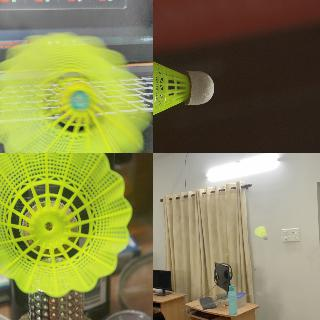shuttlecock: (0, 153, 132, 298), (0, 30, 151, 152), (153, 49, 214, 129), (255, 225, 268, 239)
